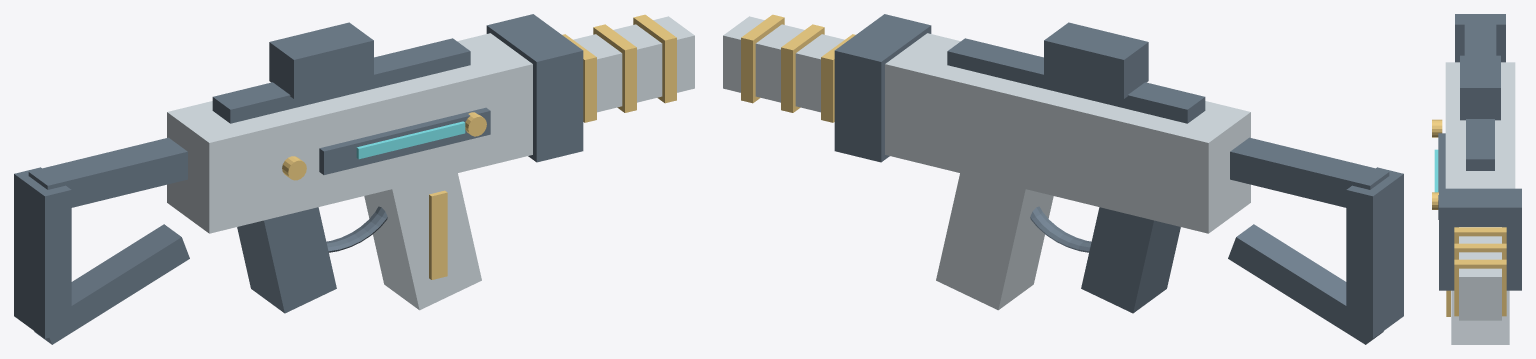
3 renders of one model, left to right at view 1: azimuth 30°, elevation 25°; view 2: azimuth 150°, elevation 25°; view 3: azimuth 270°, elevation 25°, orthographic. The views are drawn at different scales.
Visible parts, largest first — view 1: Corpo digital, Módulo inferior, Coronha posterior, Bloco frontal fechado, Empunhadura, Coronha superior, Sensor superior, Trilho superior, Coronha inferior, Extensão frontal, Painel lateral, Faixa do módulo (+5 smaller); view 2: Corpo digital, Módulo inferior, Coronha posterior, Bloco frontal fechado, Empunhadura, Coronha superior, Sensor superior, Trilho superior, Coronha inferior, Extensão frontal, Anel de energia.002, Anel de energia (+2 smaller); view 3: Bloco frontal fechado, Corpo digital, Extensão frontal, Sensor superior, Módulo inferior, Trilho superior, Coronha superior, Anel de energia, Coronha posterior, Anel de energia.001, Anel de energia.002, Painel lateral (+4 smaller).
Part boxes in pixels (x1=…): Corpo digital: x1=167, y1=33, x2=532, y2=233; Módulo inferior: x1=364, y1=173, x2=481, y2=310; Coronha posterior: x1=14, y1=167, x2=71, y2=338; Bloco frontal fechado: x1=486, y1=14, x2=583, y2=162; Empunhadura: x1=237, y1=207, x2=336, y2=313; Coronha superior: x1=28, y1=137, x2=187, y2=207; Sensor superior: x1=269, y1=22, x2=373, y2=98; Trilho superior: x1=212, y1=38, x2=470, y2=123; Coronha inferior: x1=34, y1=224, x2=189, y2=344; Extensão frontal: x1=573, y1=16, x2=694, y2=112; Painel lateral: x1=319, y1=107, x2=490, y2=174; Faixa do módulo: x1=429, y1=190, x2=447, y2=279; Corpo digital: x1=885, y1=33, x2=1250, y2=233; Módulo inferior: x1=936, y1=173, x2=1053, y2=310; Coronha posterior: x1=1346, y1=167, x2=1403, y2=338; Bloco frontal fechado: x1=834, y1=14, x2=931, y2=162; Empunhadura: x1=1081, y1=207, x2=1180, y2=313; Coronha superior: x1=1230, y1=137, x2=1389, y2=207; Sensor superior: x1=1044, y1=22, x2=1148, y2=98; Trilho superior: x1=947, y1=38, x2=1205, y2=123; Coronha inferior: x1=1228, y1=224, x2=1383, y2=344; Extensão frontal: x1=723, y1=16, x2=844, y2=112; Anel de energia.002: x1=781, y1=24, x2=824, y2=112; Anel de energia: x1=741, y1=14, x2=784, y2=103; Bloco frontal fechado: x1=1439, y1=188, x2=1521, y2=290; Corpo digital: x1=1445, y1=62, x2=1515, y2=188; Extensão frontal: x1=1459, y1=227, x2=1501, y2=320; Sensor superior: x1=1460, y1=55, x2=1500, y2=120; Módulo inferior: x1=1451, y1=290, x2=1509, y2=344; Trilho superior: x1=1466, y1=119, x2=1494, y2=170; Coronha superior: x1=1464, y1=14, x2=1496, y2=55; Anel de energia: x1=1454, y1=259, x2=1506, y2=316; Coronha posterior: x1=1455, y1=14, x2=1505, y2=62; Anel de energia.001: x1=1454, y1=227, x2=1506, y2=243; Anel de energia.002: x1=1454, y1=243, x2=1506, y2=259; Painel lateral: x1=1438, y1=133, x2=1445, y2=219.
Bounding box in the file's own units: 4.89 × 1.98 × 0.705.
